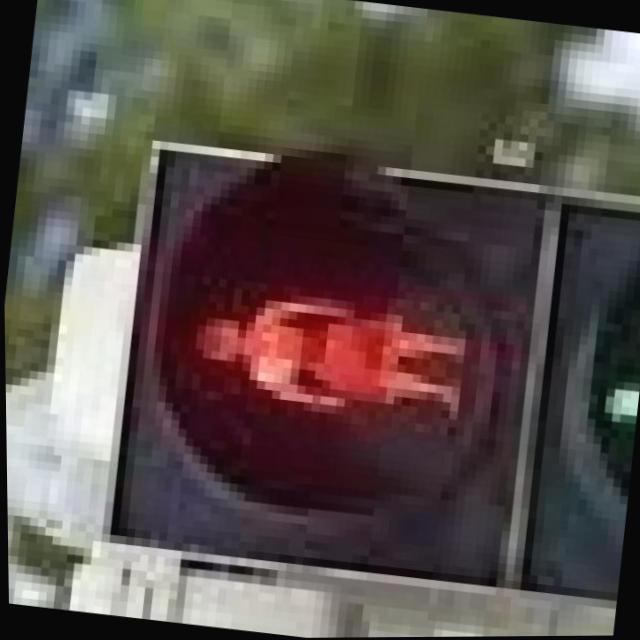red_light: (143, 229, 474, 462)
